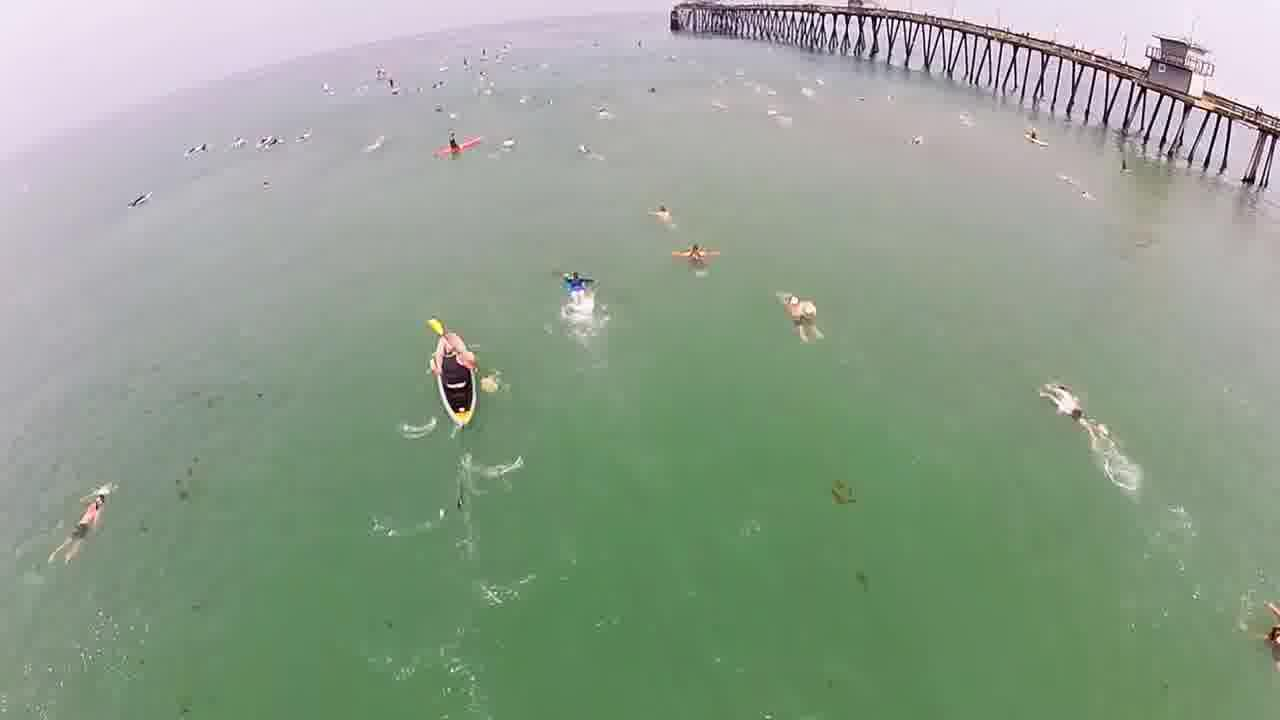swimmer: (1037, 375, 1113, 456), (60, 471, 124, 558), (768, 283, 828, 342), (552, 258, 595, 325), (671, 232, 711, 282), (1257, 585, 1280, 661), (645, 192, 680, 235)
